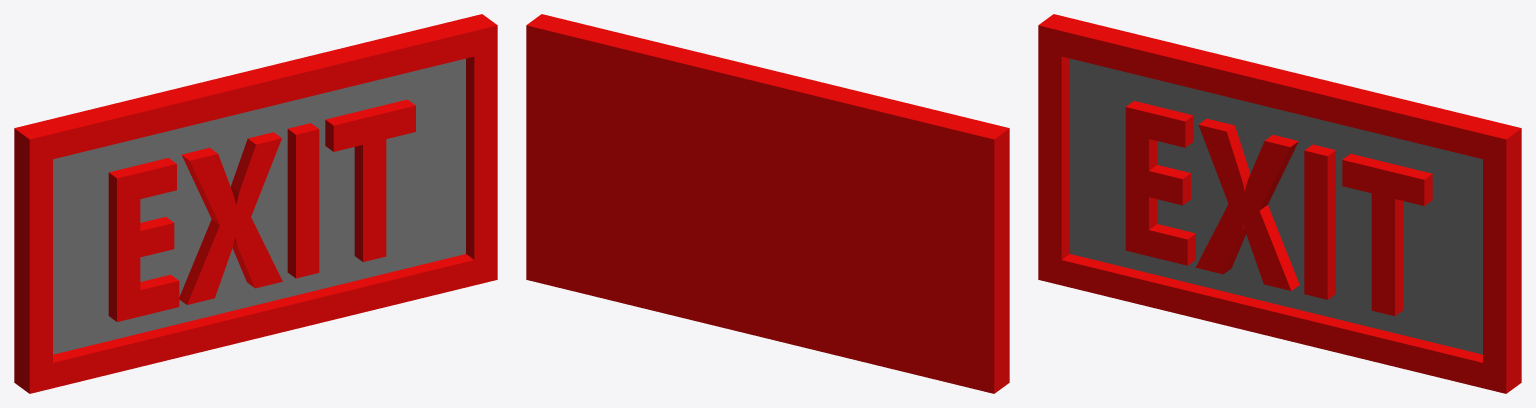
The model's file is sm_exit.fbx.
3 views of the same model, side by side, from view 1: azimuth 30°, elevation 25°; view 2: azimuth 150°, elevation 25°; view 3: azimuth 330°, elevation 25° (orthographic).
Visible parts, largest first — view 1: exit_low (×3); view 2: exit_low; view 3: exit_low (×3).
Part boxes in pixels (x1,y1,x2,y2): exit_low (×3): (14, 14, 497, 393); exit_low: (526, 14, 1009, 393); exit_low (×3): (1038, 14, 1521, 393).
Size of the model in its own units: 51.55 by 26.78 by 2.96.
